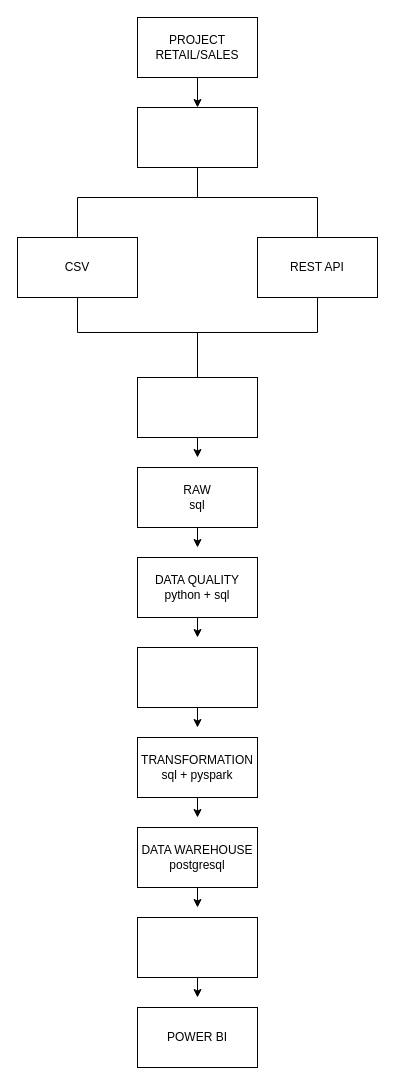
This 395x1085 diagram has some shape labels left out. Each missing label, with the centre of its shape:
ANALYTICS: the point at 197,947
INGESTION python: the point at 197,407
SOURCES: the point at 197,137
STAGING: the point at 197,677
